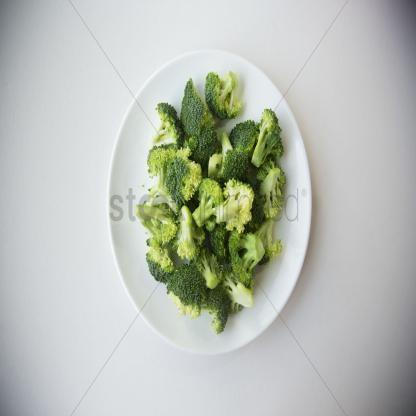broccoli: (137, 69, 286, 334)
